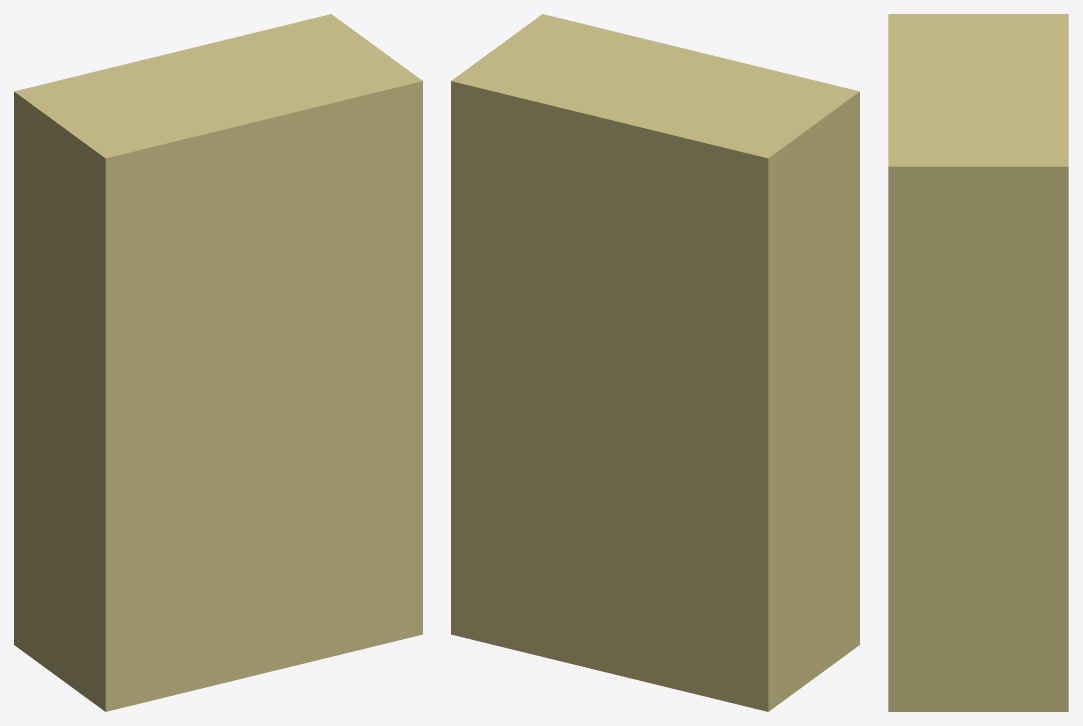
3 renders of one model, left to right at view 1: azimuth 30°, elevation 25°; view 2: azimuth 150°, elevation 25°; view 3: azimuth 270°, elevation 25°, orthographic.
Parts seen in each view (by area): view 1: wardrobe; view 2: wardrobe; view 3: wardrobe.
Part boxes in pixels (x1,y1,x2,y2): wardrobe: [14, 14, 422, 711]; wardrobe: [451, 14, 859, 711]; wardrobe: [888, 14, 1068, 711].
Bounding box in the file's own units: 1.2 × 2 × 0.6.
